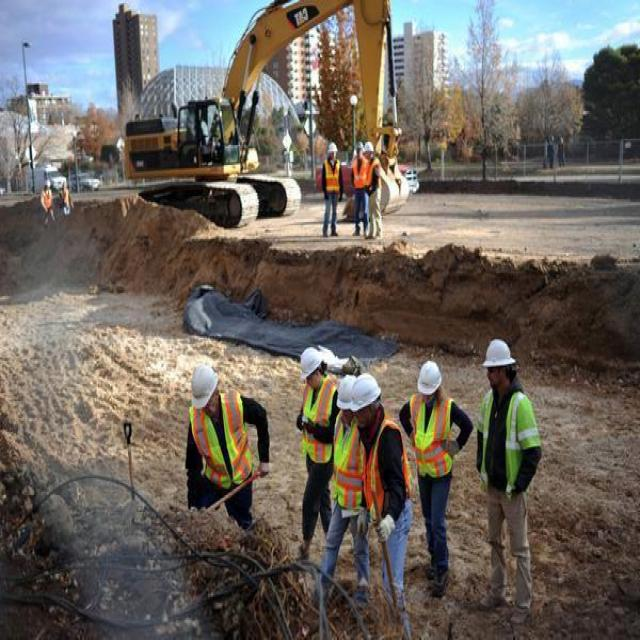face_nomask: (484, 361, 511, 390)
head_helmet: (186, 356, 220, 409), (292, 347, 326, 379), (352, 369, 380, 407), (414, 359, 441, 396), (483, 339, 516, 367), (333, 378, 354, 413), (354, 136, 366, 152), (323, 142, 339, 153), (367, 140, 378, 156), (42, 174, 53, 187)
person: (482, 332, 537, 598), (182, 349, 252, 498), (285, 348, 334, 534), (419, 356, 450, 592), (369, 370, 394, 615), (332, 376, 357, 572), (310, 140, 342, 246), (349, 145, 366, 236), (36, 163, 59, 230), (369, 154, 387, 234), (61, 171, 80, 222)
shoes: (479, 575, 510, 616), (509, 596, 532, 628)
vest: (480, 393, 529, 483), (196, 399, 246, 483), (414, 396, 454, 478), (329, 422, 366, 506), (366, 424, 400, 515), (299, 387, 336, 461), (322, 159, 341, 190), (350, 157, 364, 187), (366, 158, 377, 186), (41, 188, 52, 208), (42, 188, 51, 210)
